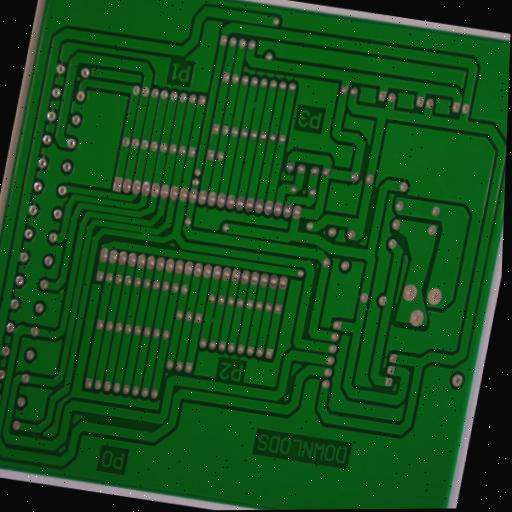short_circuit: (203, 308, 222, 330), (246, 94, 264, 114), (135, 224, 153, 243)
